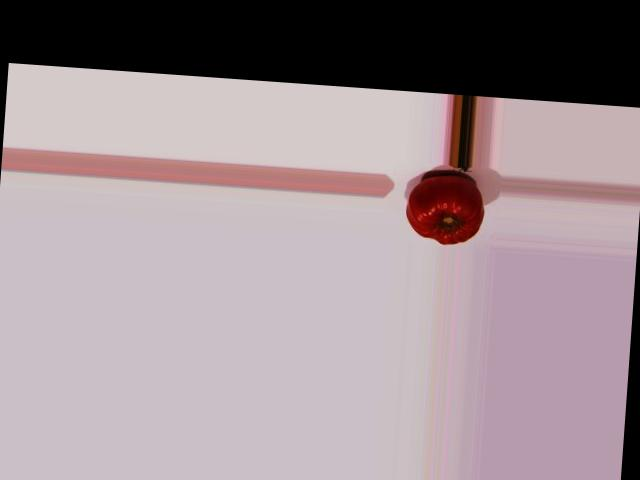tomato: (404, 173, 485, 246)
